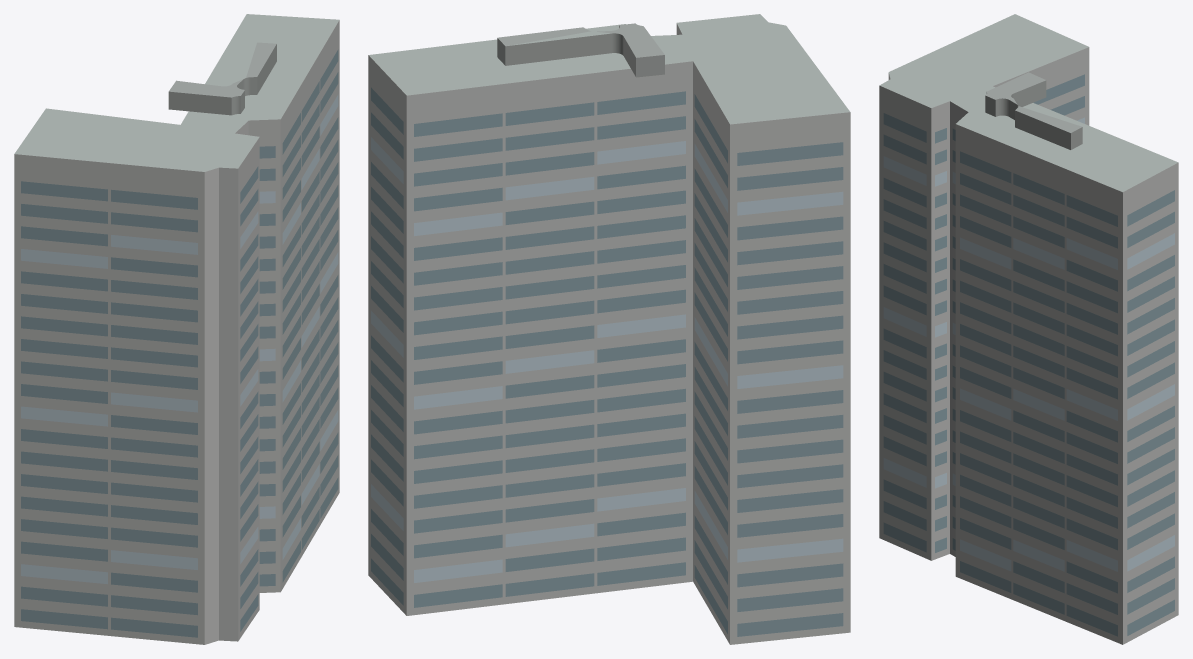
The model's file is fallback-godeok-gracium-142.glb.
The picture shows the model from 3 angles, left to right: view 1: azimuth 30°, elevation 25°; view 2: azimuth 150°, elevation 25°; view 3: azimuth 270°, elevation 25°; orthographic projection. The views are drawn at different scales.
Parts seen in each view (by area): view 1: fallback-godeok-gracium-142; view 2: fallback-godeok-gracium-142; view 3: fallback-godeok-gracium-142.
Boxes of the visible parts, box(x1,y1,x2,y2) form: fallback-godeok-gracium-142: box(14, 14, 339, 644); fallback-godeok-gracium-142: box(368, 14, 850, 644); fallback-godeok-gracium-142: box(879, 14, 1178, 644).
Bounding box in the file's own units: 53.73 × 66 × 38.11.
